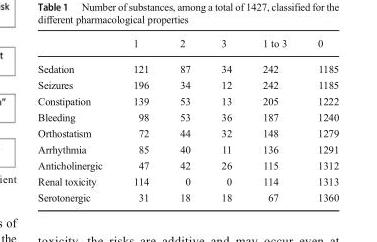table: (37, 36, 338, 202)
table column: (37, 36, 117, 202), (246, 36, 301, 202), (117, 36, 163, 202), (163, 36, 205, 202), (205, 36, 246, 202), (301, 36, 338, 202)
table column header: (37, 36, 338, 55)
table row: (37, 55, 338, 76), (37, 36, 338, 55), (37, 76, 338, 92), (37, 92, 338, 108), (37, 108, 338, 124), (37, 124, 338, 140), (37, 140, 338, 156), (37, 156, 338, 172), (37, 172, 338, 188), (37, 188, 338, 202)
